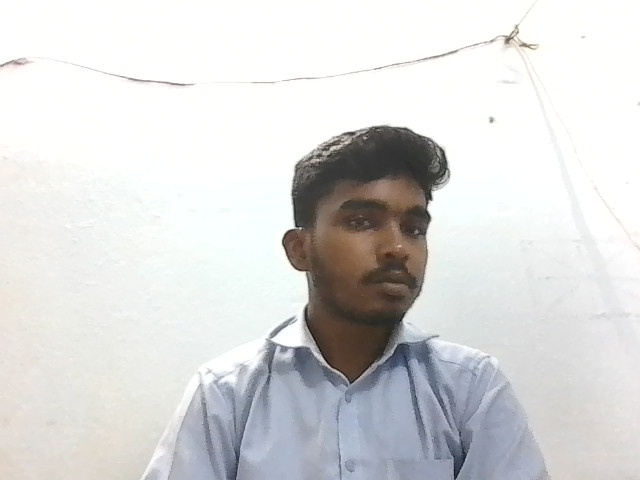real: (293, 126, 440, 335)
